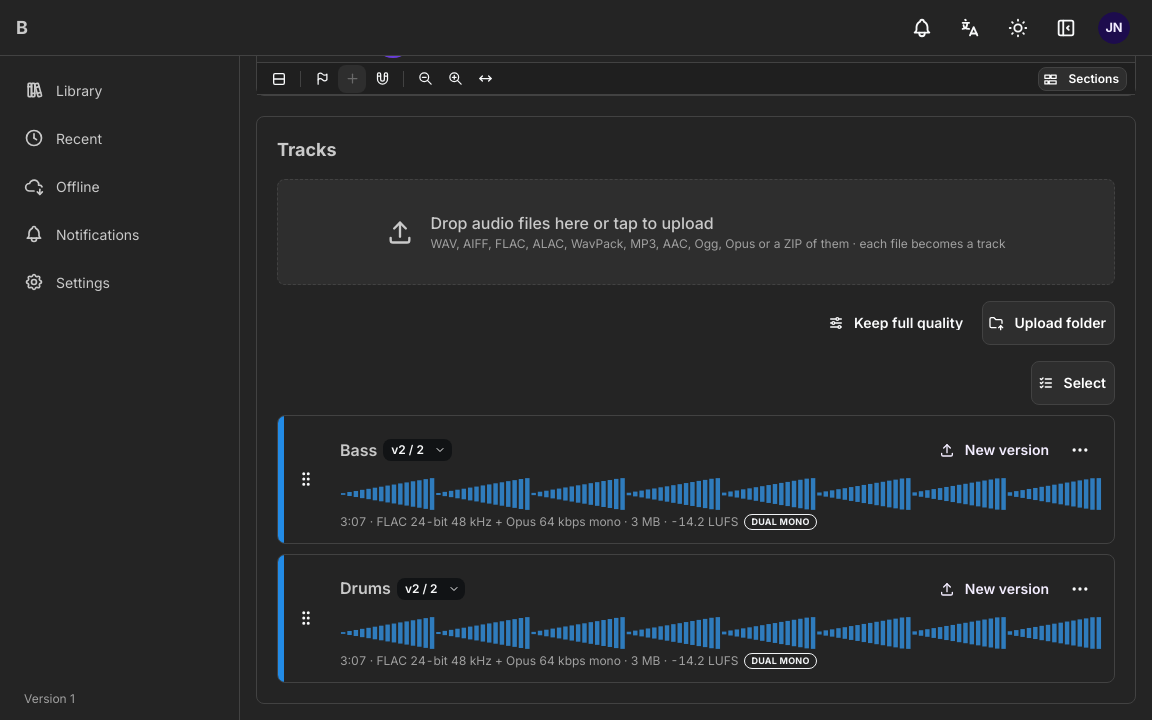
Test: song page track reorder (SPEC §28.5) › shows a drag handle per track for editors, none in selection mode
(page scrolled)
Expected: the button named "Reorder Bass" is shown, [284, 458, 328, 502]
Expected: the number of buttons with test id "track-drag-handle" is 2, [284, 458, 328, 502]; [284, 596, 328, 640]
Click the button with test id "tracks-select" at point(1073, 383), box [1031, 361, 1115, 405]
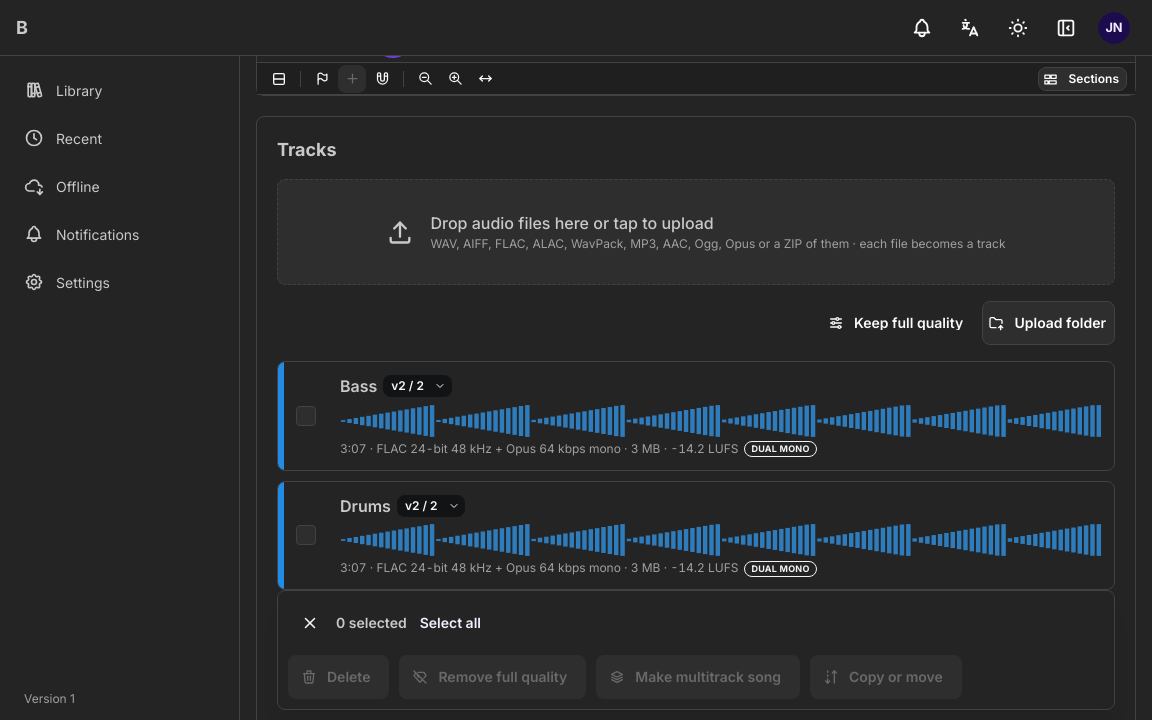
Now no buttons with test id "track-drag-handle" are shown
